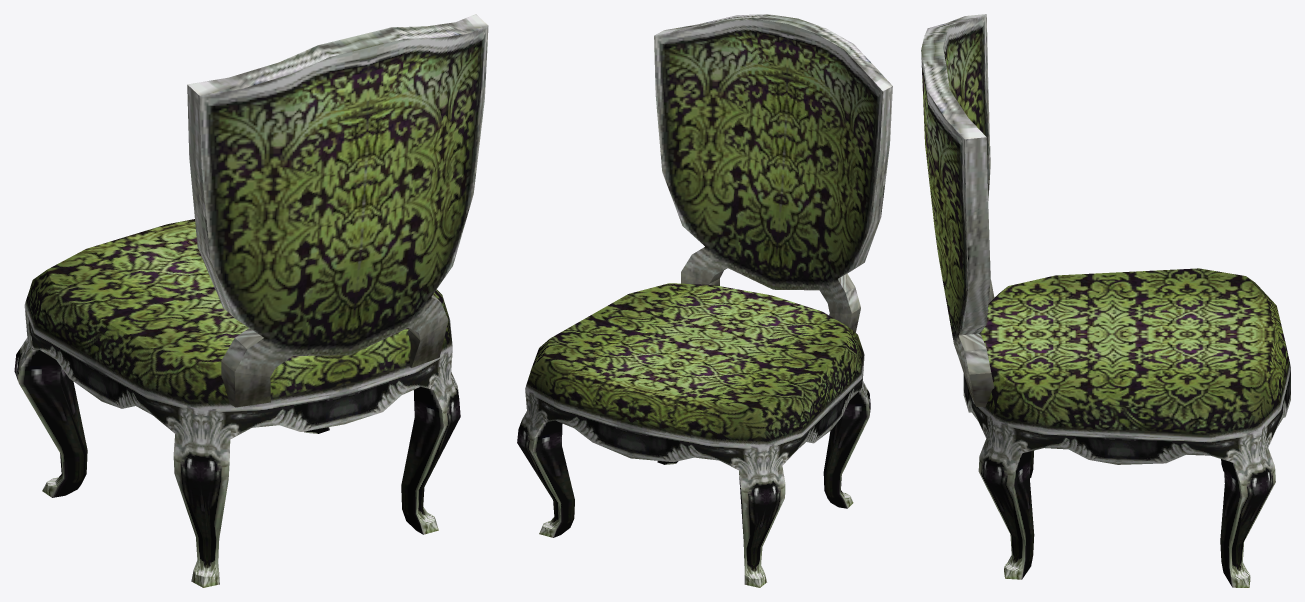
File: furni_0201207_03.FBX
The picture shows the model from 3 angles, left to right: view 1: azimuth 30°, elevation 25°; view 2: azimuth 150°, elevation 25°; view 3: azimuth 270°, elevation 25°; orthographic projection. The views are drawn at different scales.
Visible parts, largest first — view 1: furni_0201207_03; view 2: furni_0201207_03; view 3: furni_0201207_03.
Part boxes in pixels (box(x1,y1,x2,y2)): furni_0201207_03: box(14, 14, 488, 587); furni_0201207_03: box(517, 14, 892, 587); furni_0201207_03: box(921, 14, 1290, 587).
Size of the model in its own units: 72.78 by 112 by 78.13.
